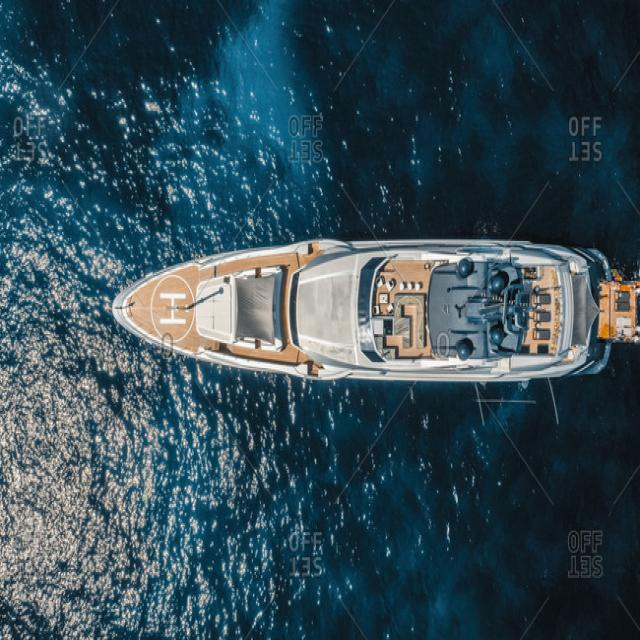helipad: (148, 270, 194, 340)
